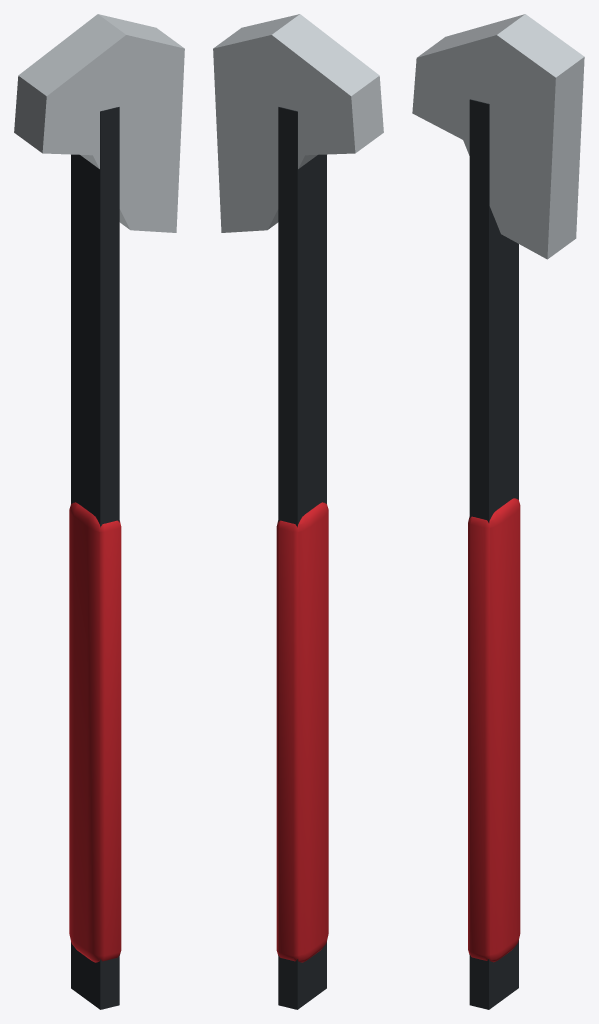
File: ob_fire_axe.glb
The picture shows the model from 3 angles, left to right: view 1: azimuth 30°, elevation 25°; view 2: azimuth 150°, elevation 25°; view 3: azimuth 330°, elevation 25°; orthographic projection.
Visible parts, largest first — view 1: ob_fire_axe; view 2: ob_fire_axe; view 3: ob_fire_axe.
Boxes of the visible parts, left/top/right/bottom form: ob_fire_axe: left=14, top=14, right=184, bottom=1009; ob_fire_axe: left=213, top=14, right=383, bottom=1009; ob_fire_axe: left=412, top=14, right=584, bottom=1009.
Bounding box in the file's own units: 0.1 × 0.65 × 0.04.
